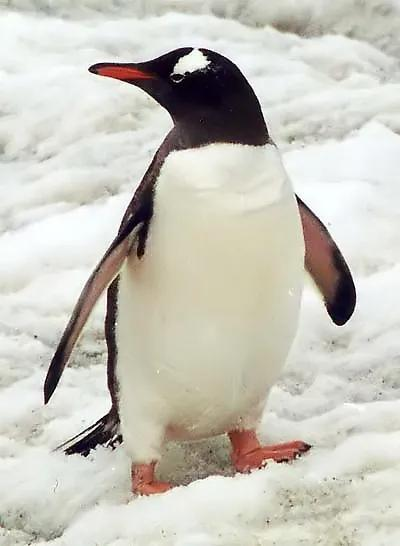Penguin: (44, 48, 355, 494)
